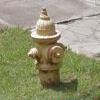Hydrant: (23, 7, 73, 87)
